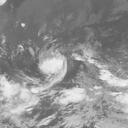cyclone: (38, 50, 67, 81)
